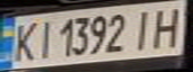1: (54, 15, 75, 57)
2: (103, 9, 133, 55)
3: (72, 14, 90, 56)
9: (87, 11, 112, 56)
H: (145, 3, 190, 50)
I: (127, 7, 160, 52), (33, 16, 57, 61)
K: (6, 18, 42, 63)
